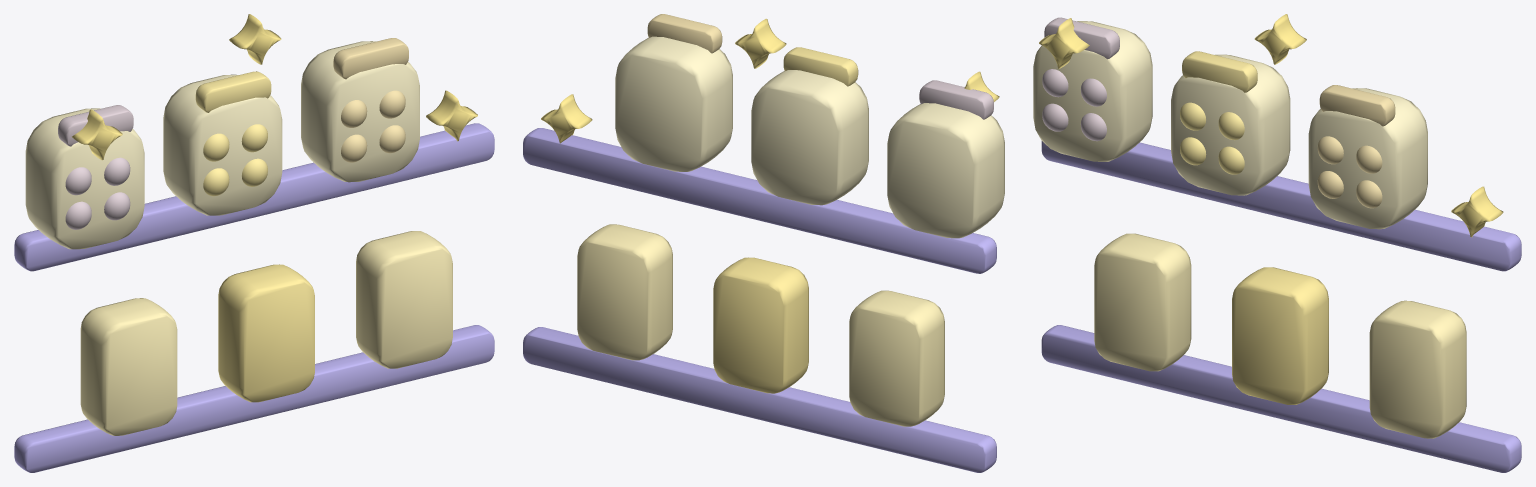
The model's file is decor_3_star.glb.
The picture shows the model from 3 angles, left to right: view 1: azimuth 30°, elevation 25°; view 2: azimuth 150°, elevation 25°; view 3: azimuth 330°, elevation 25°; orthographic projection.
Parts seen in each view (by area): view 1: decor_3_star; view 2: decor_3_star; view 3: decor_3_star.
Boxes of the visible parts, left/top/right/bottom form: decor_3_star: left=14, top=14, right=494, bottom=472; decor_3_star: left=523, top=14, right=1004, bottom=472; decor_3_star: left=1033, top=14, right=1521, bottom=472.
Bounding box in the file's own units: 17.08 × 13.81 × 2.65.
